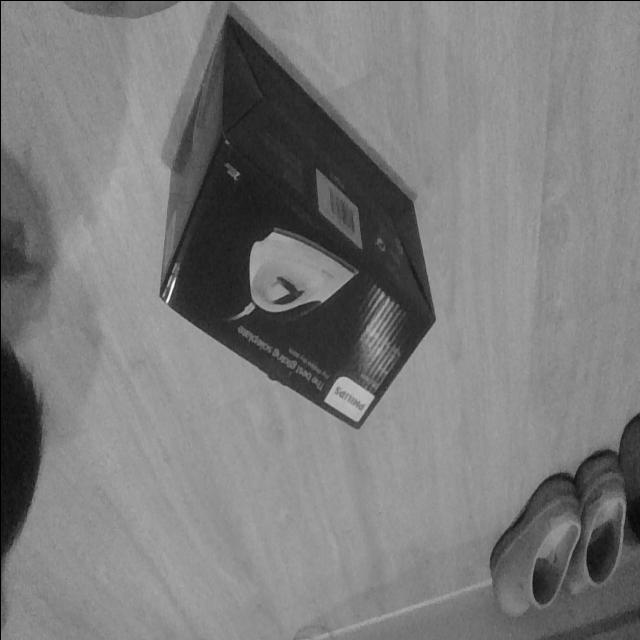IRON: (157, 11, 437, 433)
